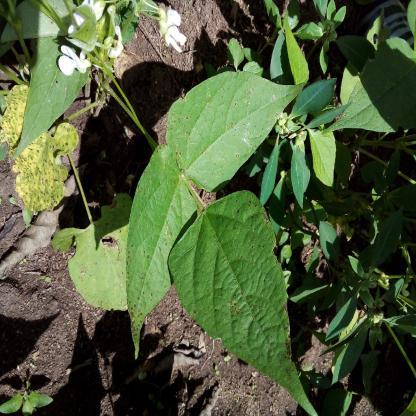Beans_Angular_LeafSpot: (188, 190, 314, 414), (155, 80, 305, 182), (125, 156, 193, 360), (0, 88, 78, 236)
